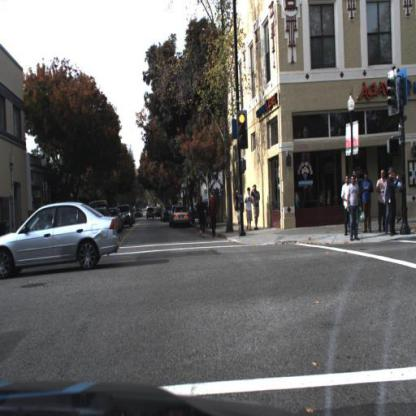car: (2, 203, 122, 282), (171, 204, 194, 231), (114, 211, 123, 231), (164, 206, 172, 224)
pedestrian: (385, 167, 398, 243), (361, 171, 374, 239), (348, 177, 360, 239), (384, 171, 395, 235), (389, 172, 400, 233), (350, 173, 361, 230), (342, 178, 352, 238), (388, 172, 398, 232), (378, 169, 386, 233), (344, 174, 352, 236), (197, 195, 207, 242), (378, 172, 386, 228), (344, 175, 351, 236), (209, 189, 217, 242), (252, 185, 261, 231), (236, 189, 246, 229), (198, 195, 206, 243), (245, 188, 254, 228), (245, 187, 253, 231), (237, 191, 243, 235)
trafficLight: (237, 110, 249, 149)
